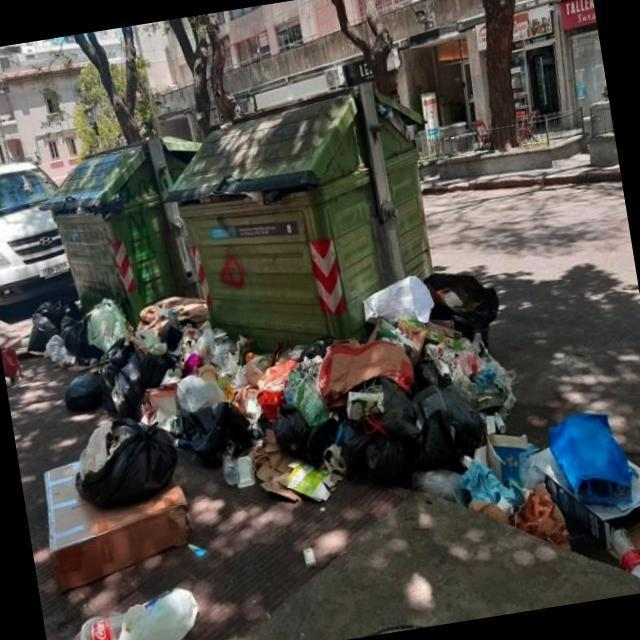garbage: (202, 260, 530, 544), (6, 267, 242, 600), (497, 398, 640, 611), (65, 582, 210, 640), (210, 167, 312, 224), (44, 180, 128, 230), (0, 334, 32, 390), (294, 537, 328, 576)
